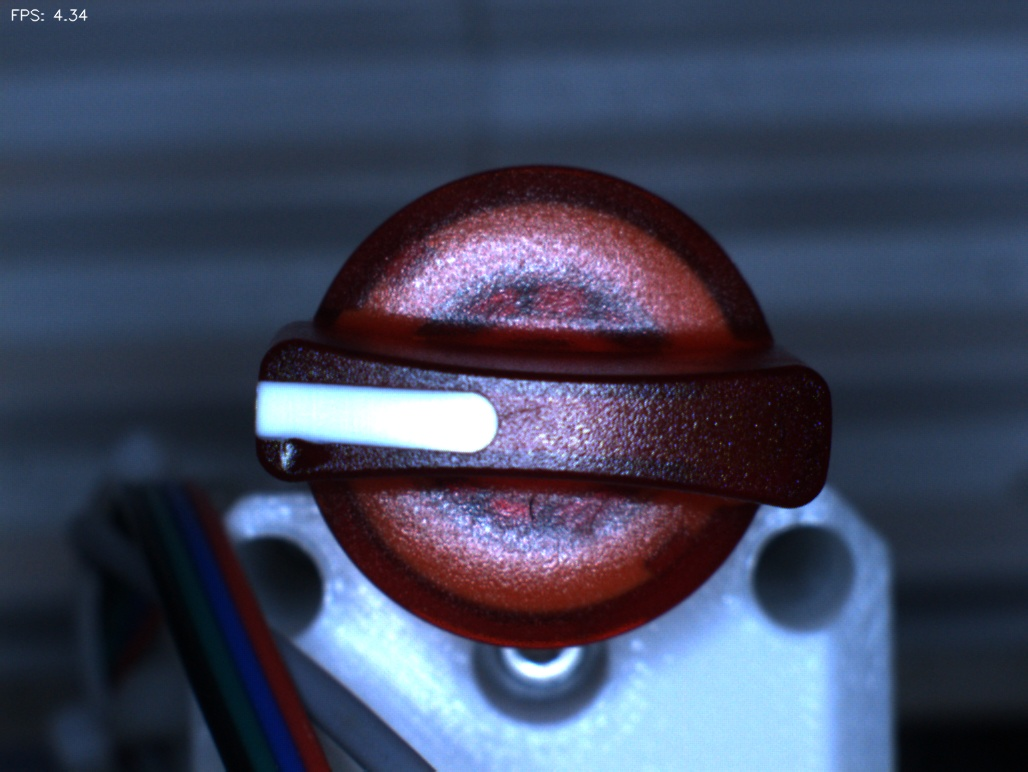Choc: (254, 424, 329, 499)
